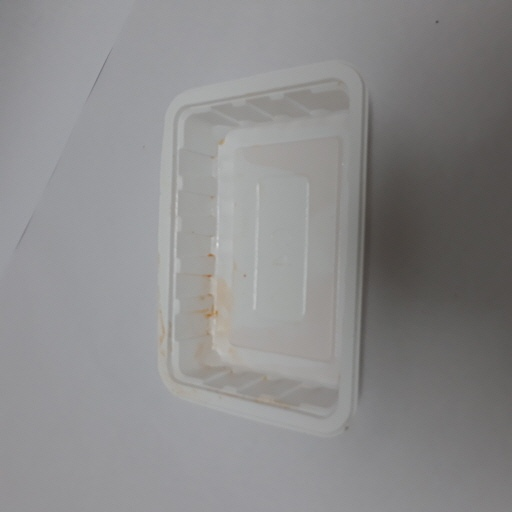Plastic_4: (144, 61, 364, 436)
